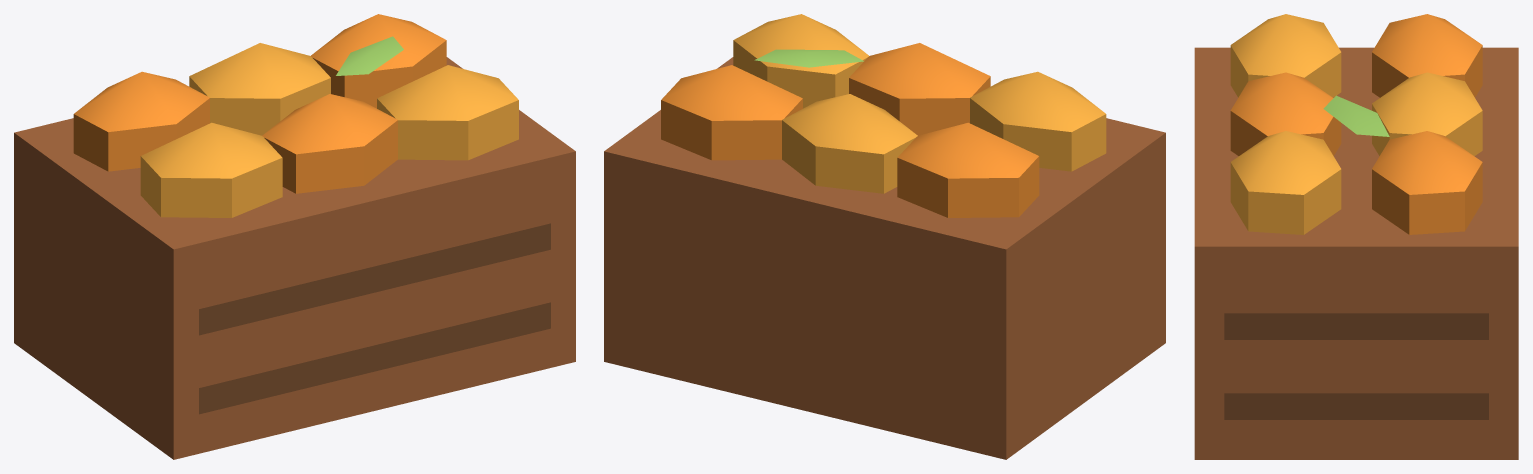
File: prop_mango_crate.glb
3 views of the same model, side by side, from view 1: azimuth 30°, elevation 25°; view 2: azimuth 150°, elevation 25°; view 3: azimuth 270°, elevation 25° (orthographic).
Visible parts, largest first — view 1: prop_mango_crate; view 2: prop_mango_crate; view 3: prop_mango_crate.
Boxes of the visible parts, bbox=[...] form: prop_mango_crate: bbox=[14, 14, 575, 459]; prop_mango_crate: bbox=[604, 14, 1165, 459]; prop_mango_crate: bbox=[1194, 14, 1518, 459].
Size of the model in its own units: 0.1601 by 0.108 by 0.1101.
Materials: 1 (1 with a texture image).
